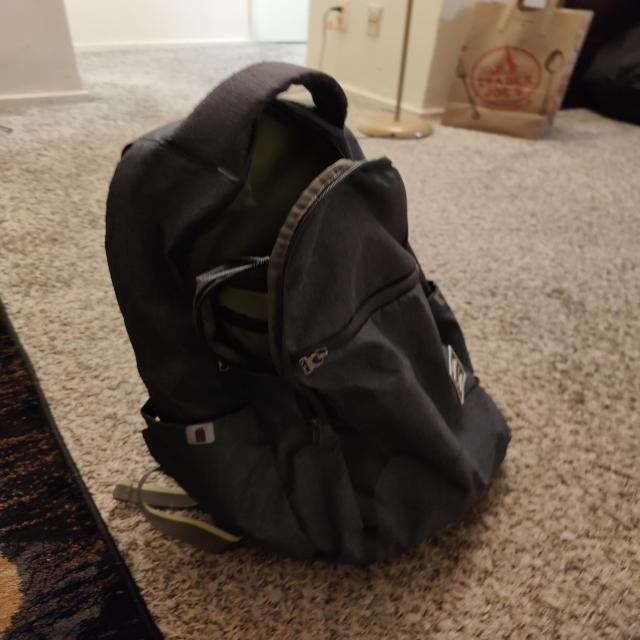bag: (114, 57, 516, 544)
